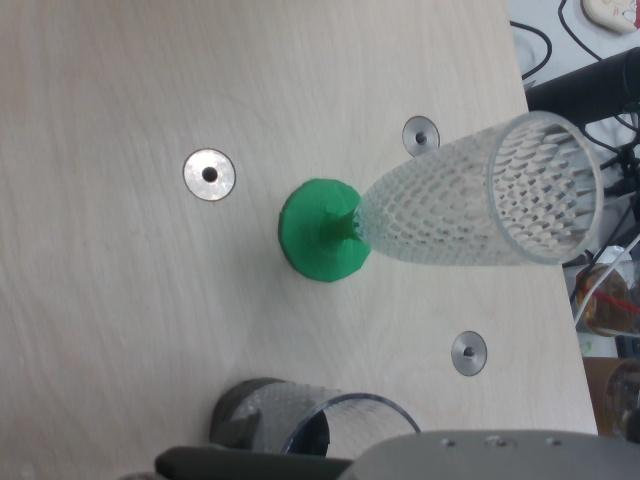green_cup: (277, 178, 371, 282)
